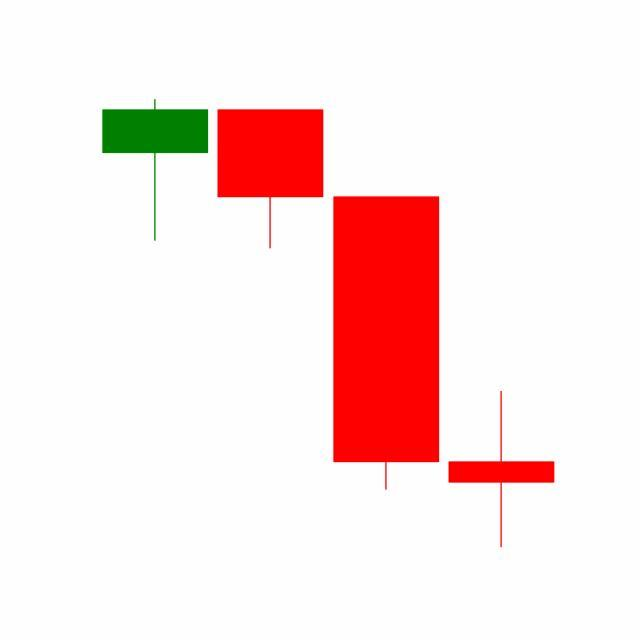Spinning Top: (444, 389, 560, 549)
